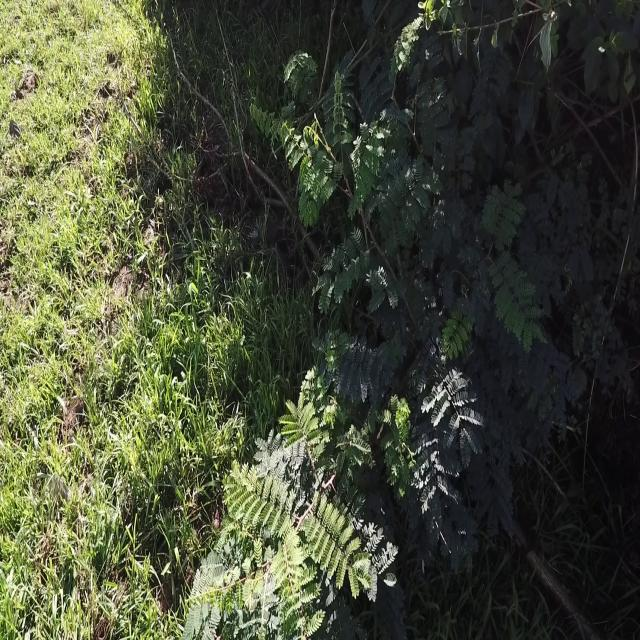Mysore-Thorn-Weed: (195, 57, 598, 630)
